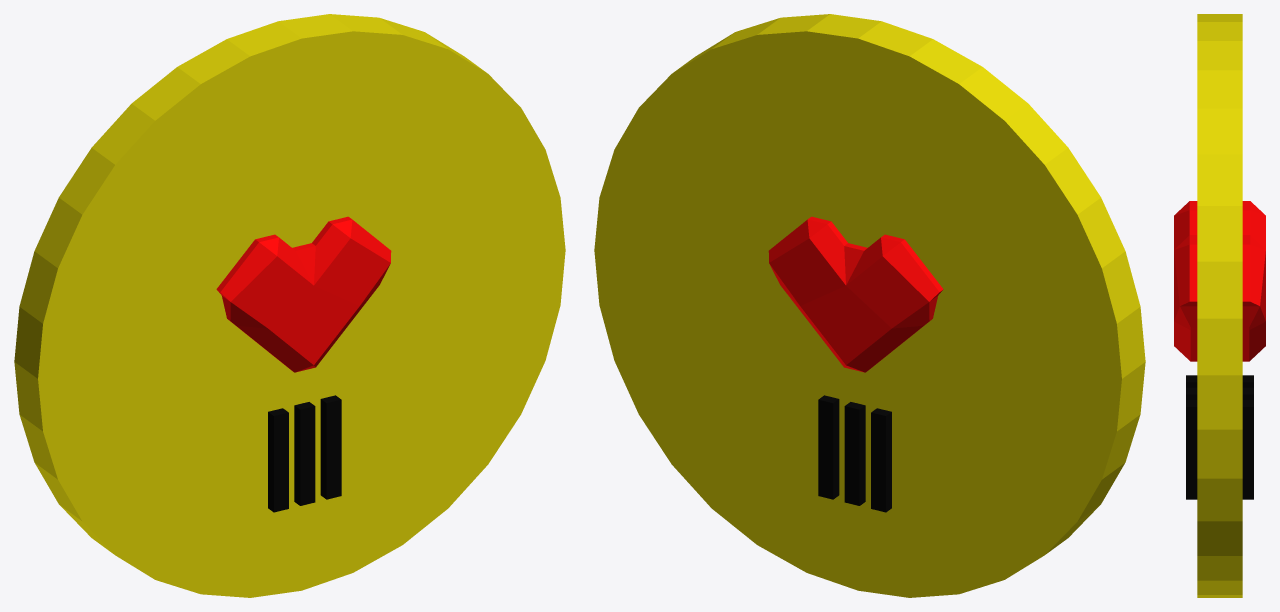
File: HealthRoom3.fbx
3 views of the same model, side by side, from view 1: azimuth 30°, elevation 25°; view 2: azimuth 150°, elevation 25°; view 3: azimuth 270°, elevation 25° (orthographic). The views are drawn at different scales.
Visible parts, largest first — view 1: Cylinder, Cube.001, Cube.002, Cube.003, Cube; view 2: Cylinder, Cube.001, Cube.002, Cube.003, Cube; view 3: Cylinder, Cube.001, Cube.002, Cube, Cube.003.
Boxes of the visible parts, x1,y1,x2,y2 form: Cylinder: (14, 14, 565, 597); Cube.001: (216, 216, 391, 372); Cube.002: (320, 395, 341, 499); Cube.003: (294, 402, 315, 505); Cube: (268, 408, 288, 512); Cylinder: (594, 14, 1145, 597); Cube.001: (768, 216, 943, 372); Cube.002: (818, 395, 839, 499); Cube.003: (844, 402, 865, 505); Cube: (871, 408, 891, 512); Cylinder: (1197, 14, 1242, 597); Cube.001: (1174, 201, 1265, 361); Cube.002: (1186, 400, 1253, 499); Cube: (1186, 375, 1253, 387); Cube.003: (1186, 387, 1253, 399).
Bounding box in the file's own units: 200 × 200 × 31.46.
